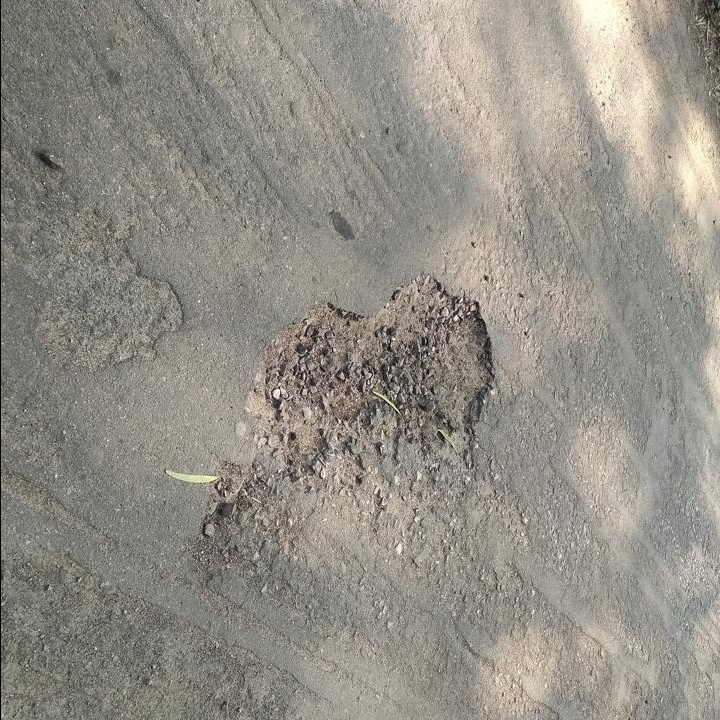pothole: (244, 269, 497, 477)
